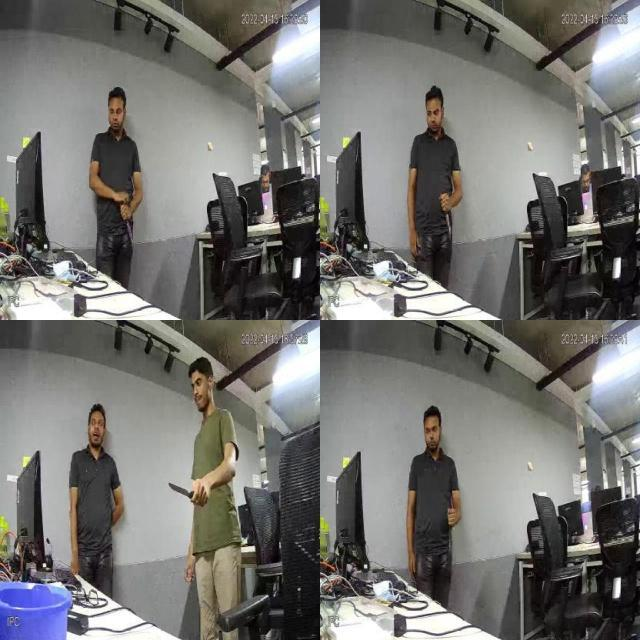-: (165, 472, 199, 510), (121, 212, 136, 248), (440, 206, 454, 244), (444, 525, 456, 557)
